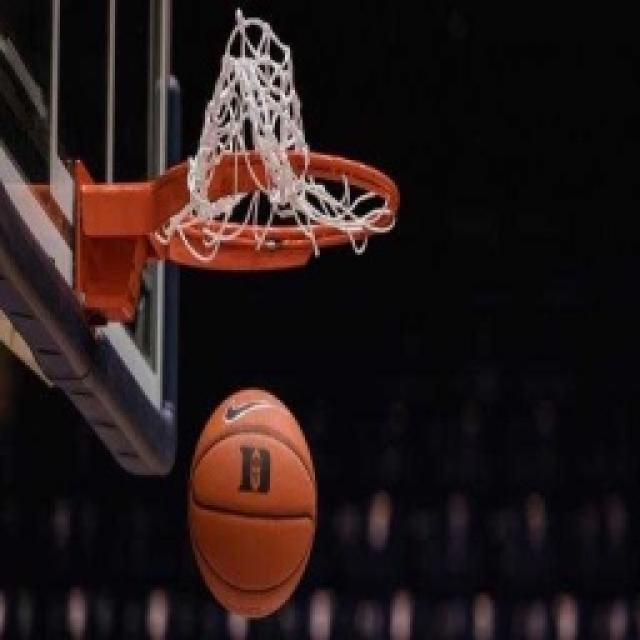rim: (182, 378, 320, 622)
